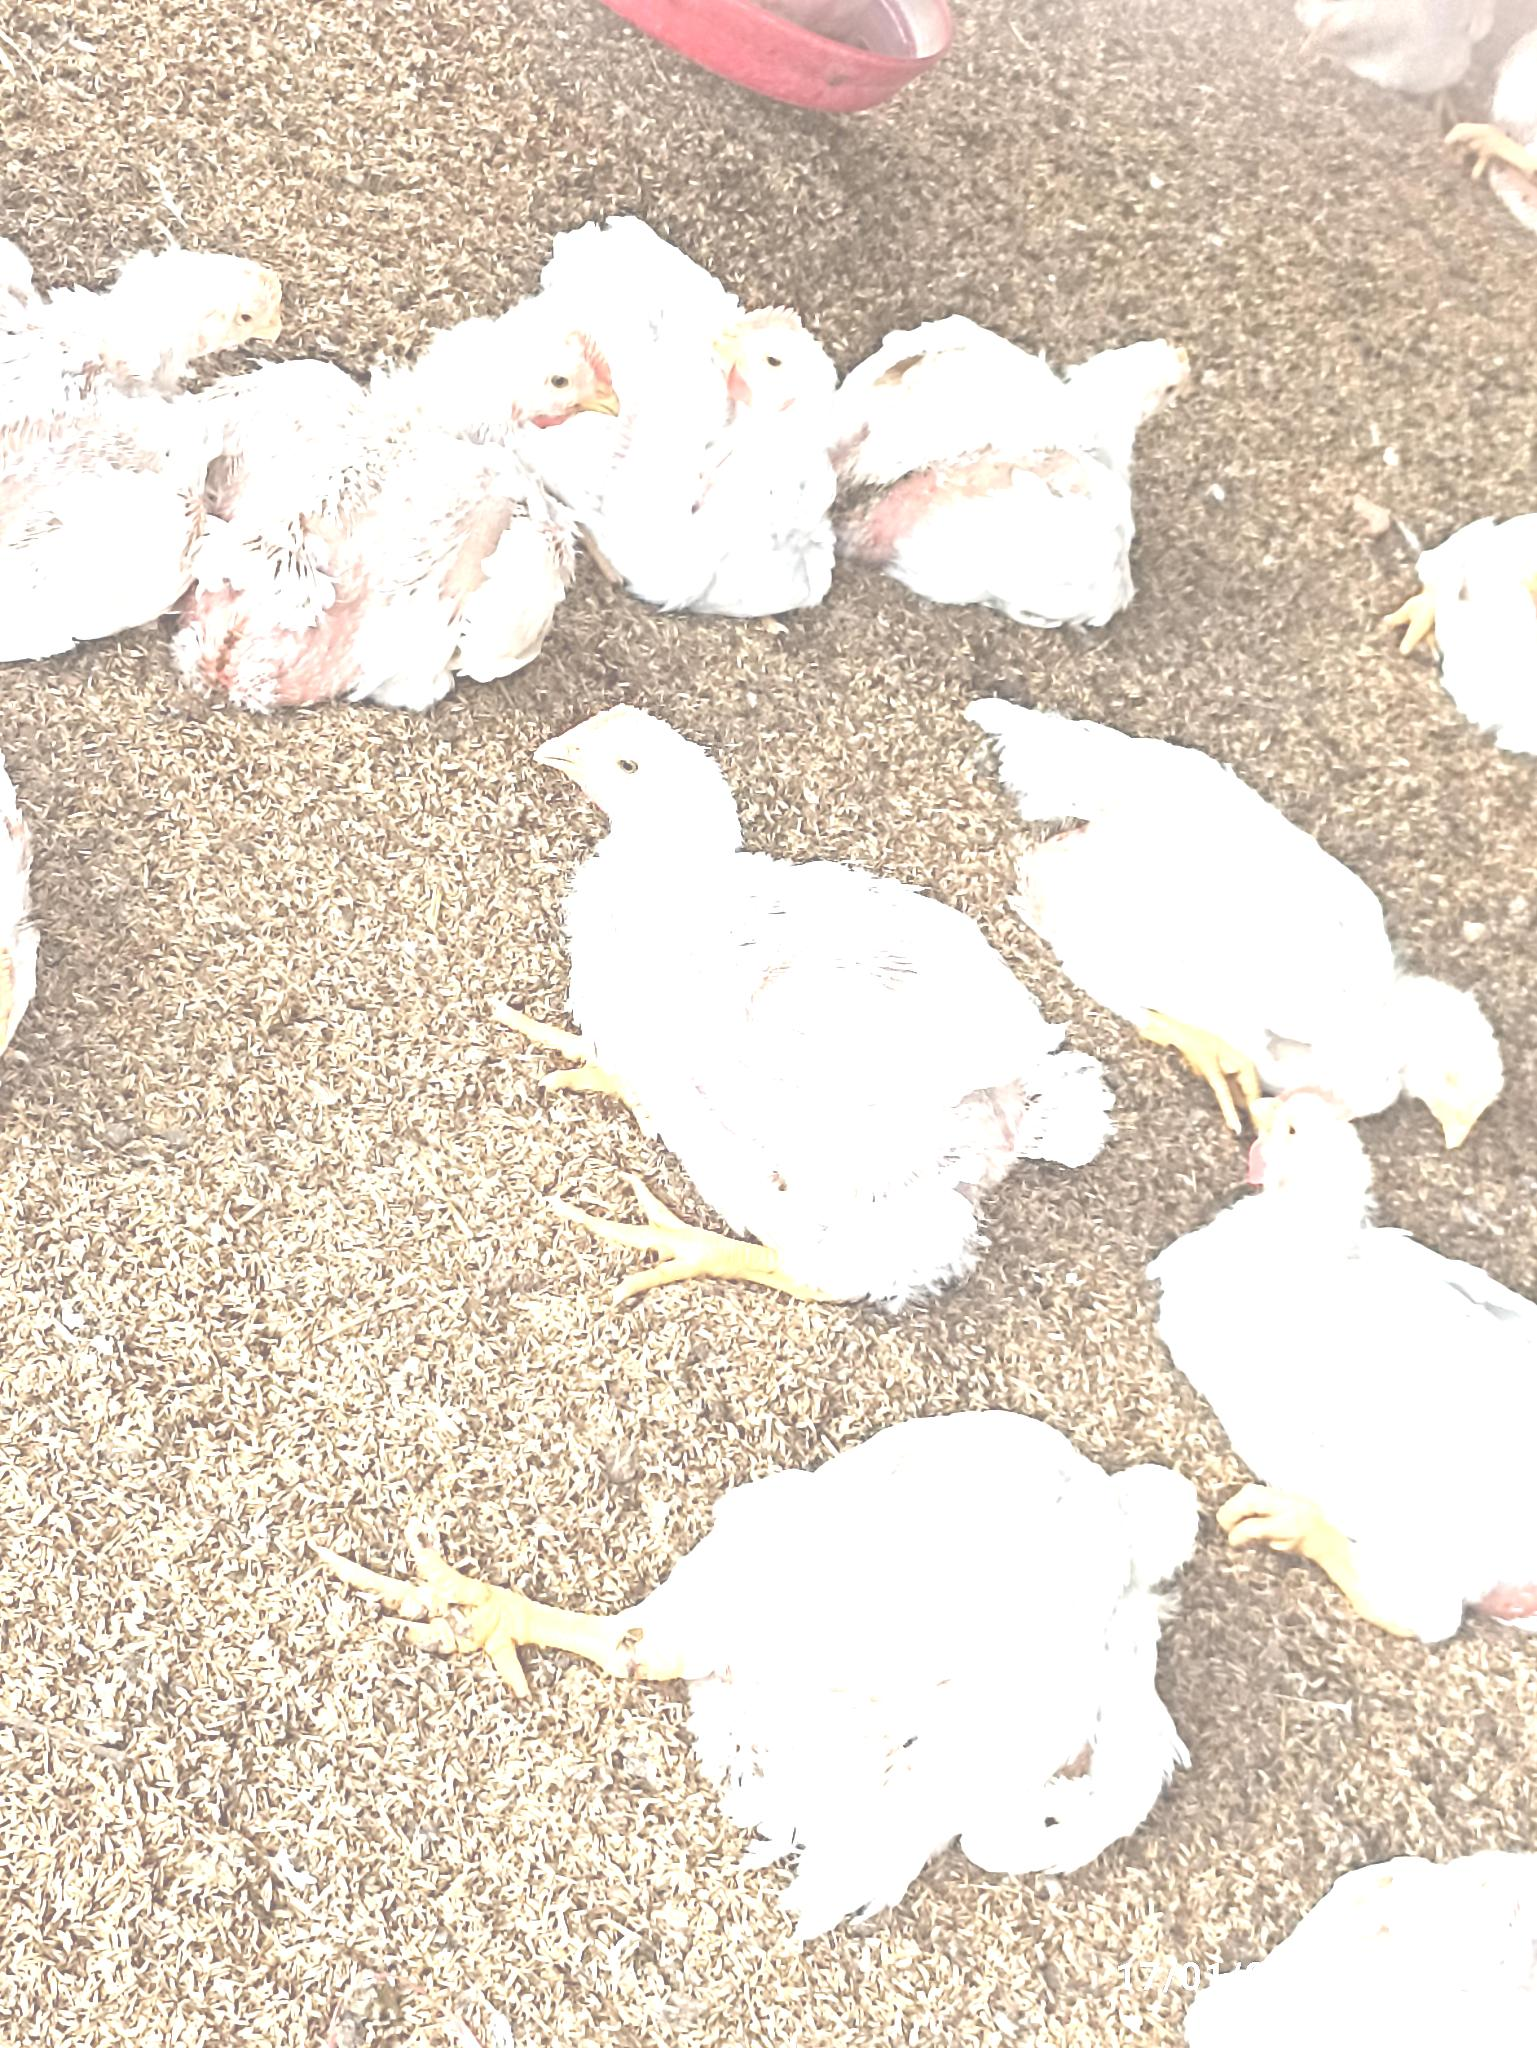Pollos: (534, 691, 1019, 1277), (1020, 694, 1505, 1128), (736, 1420, 1211, 1832), (1171, 1094, 1537, 1612), (163, 305, 610, 689), (2, 236, 266, 700), (568, 215, 835, 620), (869, 323, 1203, 596)
